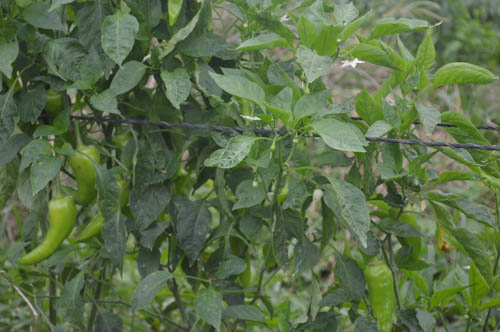ChiliPepper: (21, 197, 74, 273), (81, 181, 127, 249), (366, 264, 393, 331), (73, 146, 101, 210)
